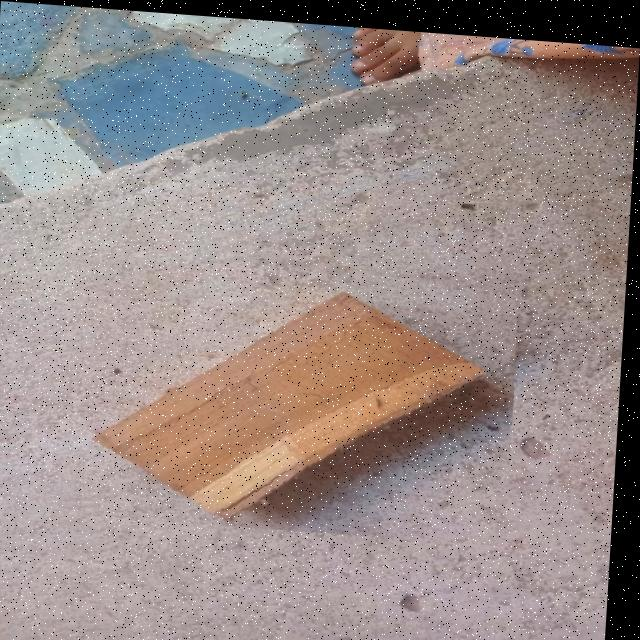litter: (66, 217, 525, 537)
